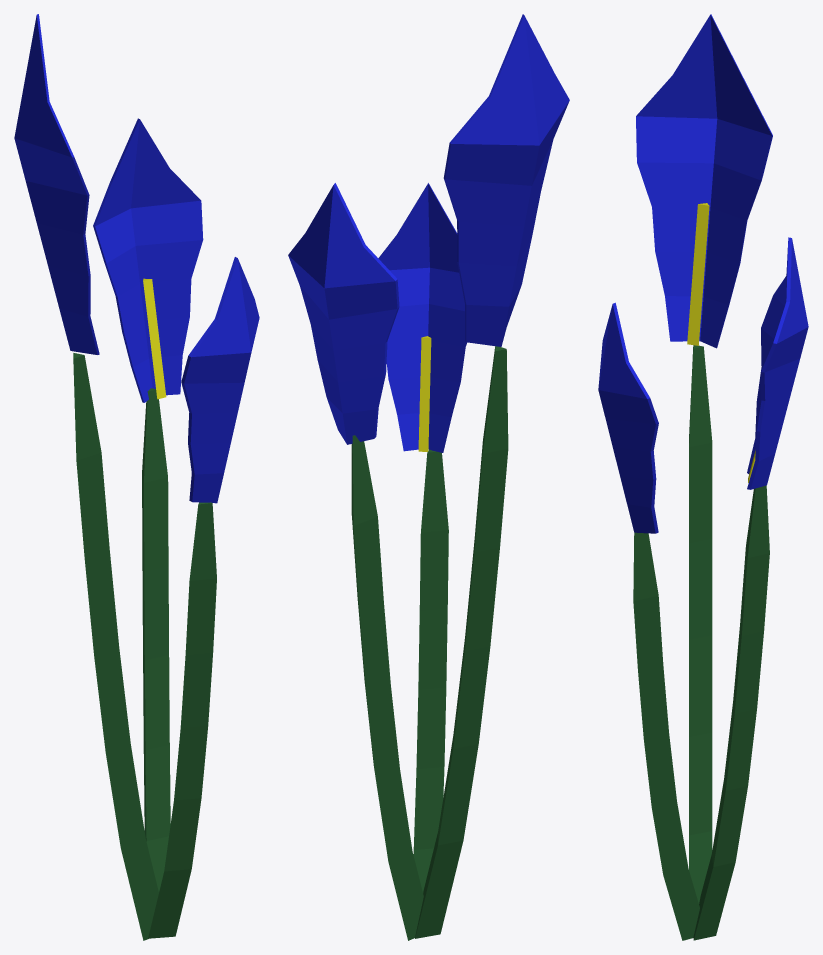
File: flower5.fbx
The picture shows the model from 3 angles, left to right: view 1: azimuth 30°, elevation 25°; view 2: azimuth 150°, elevation 25°; view 3: azimuth 270°, elevation 25°; orthographic projection. The views are drawn at different scales.
Parts seen in each view (by area): view 1: Cylinder.009; view 2: Cylinder.009; view 3: Cylinder.009.
Boxes of the visible parts, x1,y1,x2,y2 form: Cylinder.009: [14, 14, 259, 940]; Cylinder.009: [288, 14, 569, 940]; Cylinder.009: [598, 14, 808, 940].
Bounding box in the file's own units: 75.52 × 313 × 68.52.
